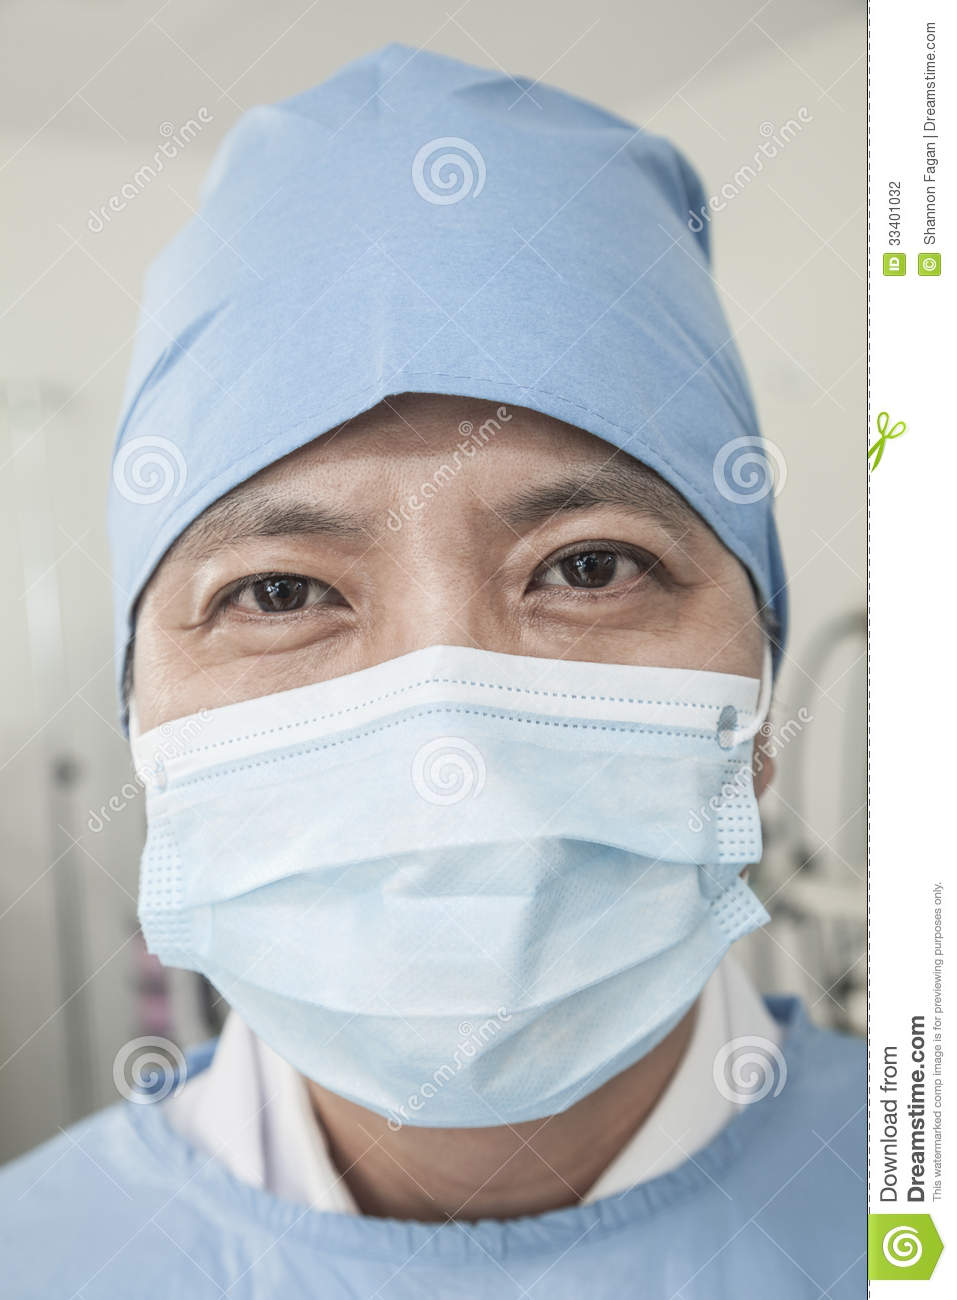mask: (128, 663, 756, 1141)
